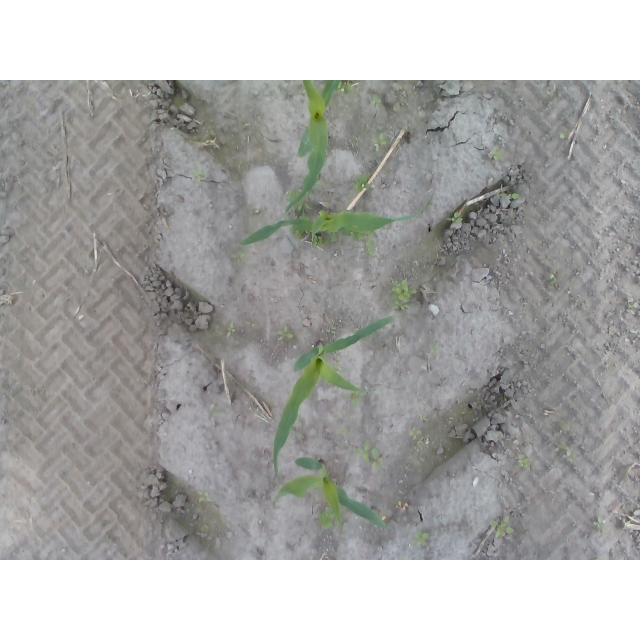Maize: (271, 316, 398, 480), (273, 453, 391, 527), (284, 81, 339, 220), (238, 208, 418, 245)
Weeds: (352, 438, 384, 470), (389, 278, 412, 311), (489, 518, 513, 539), (410, 426, 426, 450), (318, 511, 335, 530), (373, 132, 388, 153), (278, 325, 295, 342), (560, 444, 576, 460), (351, 390, 367, 406), (414, 530, 429, 547), (207, 403, 225, 417), (367, 232, 377, 256), (356, 173, 368, 191), (338, 80, 353, 94), (449, 209, 463, 223), (197, 489, 211, 503), (370, 94, 382, 110), (492, 144, 504, 160), (192, 169, 209, 180), (226, 322, 237, 339), (596, 511, 605, 530), (516, 455, 528, 469), (231, 252, 246, 263), (298, 203, 311, 214), (511, 192, 526, 201), (431, 343, 441, 353), (288, 191, 297, 202), (314, 235, 321, 249), (245, 320, 255, 328), (559, 132, 565, 141), (420, 415, 428, 421), (472, 417, 480, 423)
